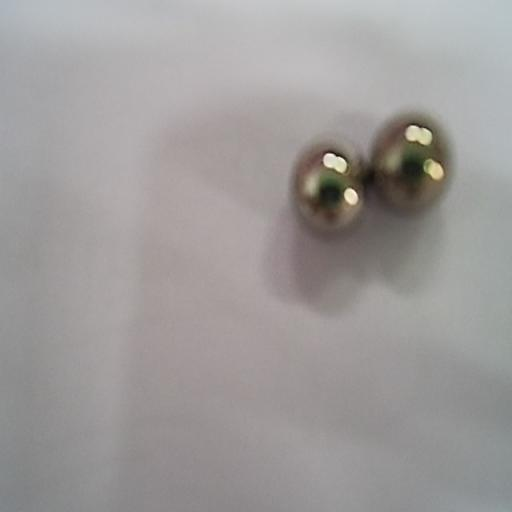steel-ball: (288, 133, 366, 250), (370, 106, 451, 217)
